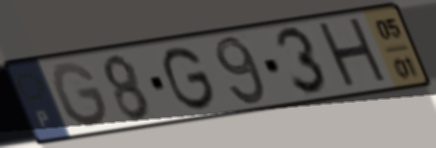3: (272, 24, 332, 99)
8: (102, 52, 153, 124)
9: (212, 34, 270, 107)
G: (50, 60, 113, 131), (161, 44, 220, 114)
H: (313, 15, 394, 94)
